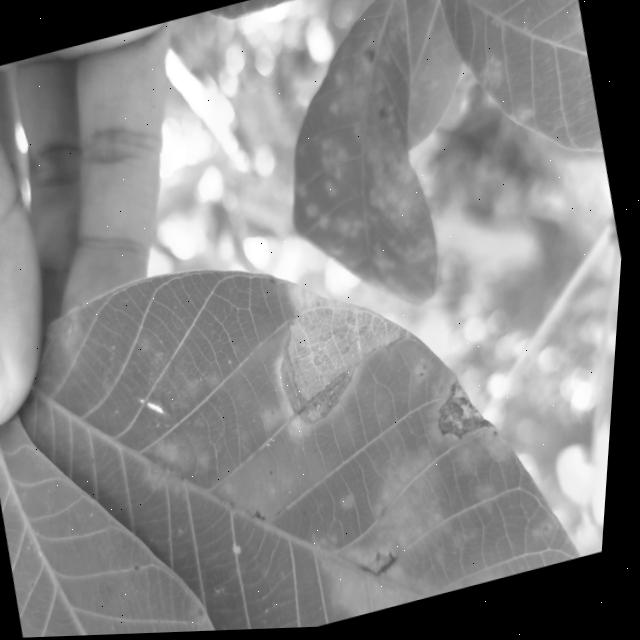Leaf-Blight: (262, 258, 430, 433), (433, 375, 503, 449)
